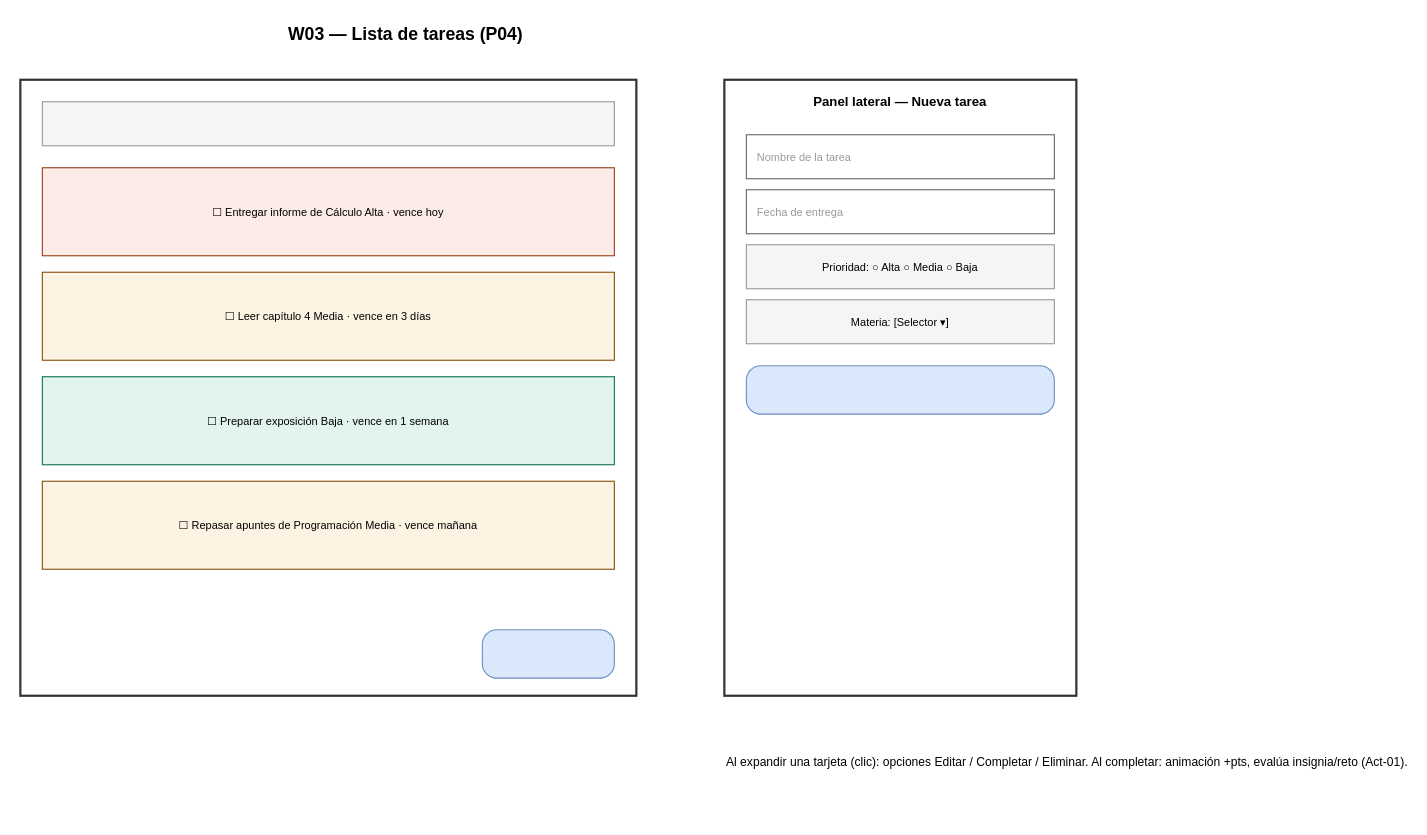
This 1427x835 diagram has some shape labels left out. The shapes that lost their labels are listed below. From the top down, each one's centre as x and y in pixels, then its label:
At (327,123): "← Volver Mis tareas [Filtros ▾]".
At (899,389): "GUARDAR TAREA".
At (547,653): "+ Nueva".
